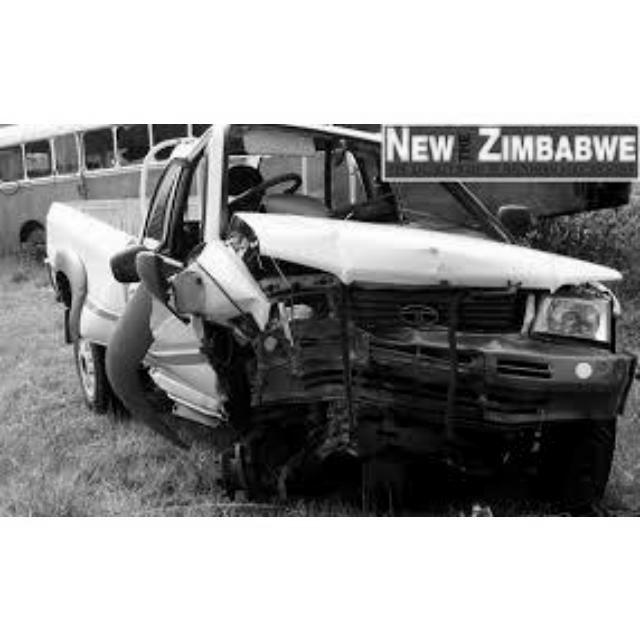bonnet-dent: (236, 220, 567, 300)
front-bumper-dent: (271, 318, 555, 441)
